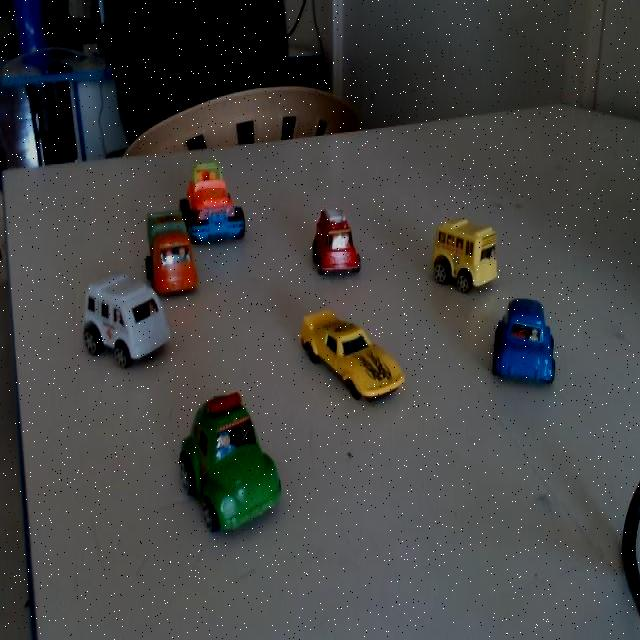car: (167, 392, 287, 535), (297, 306, 404, 406), (80, 262, 172, 376), (491, 298, 561, 390), (184, 153, 255, 243), (423, 218, 496, 302), (141, 200, 199, 302), (301, 201, 361, 287)
